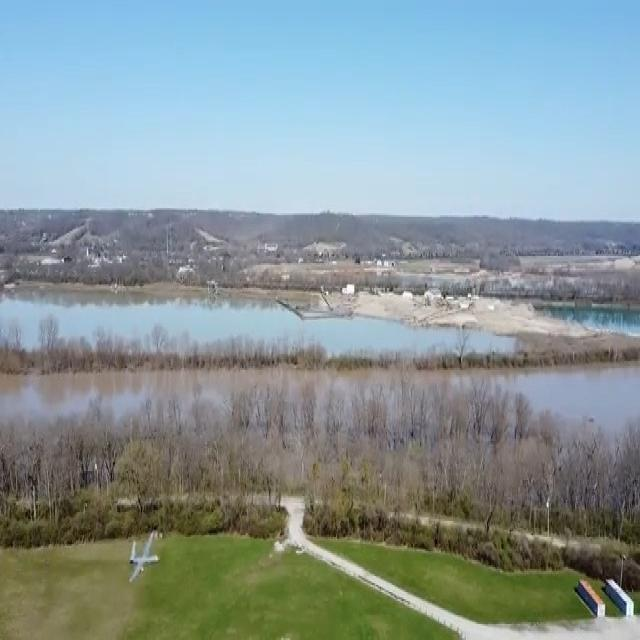iha: (130, 530, 158, 580)
